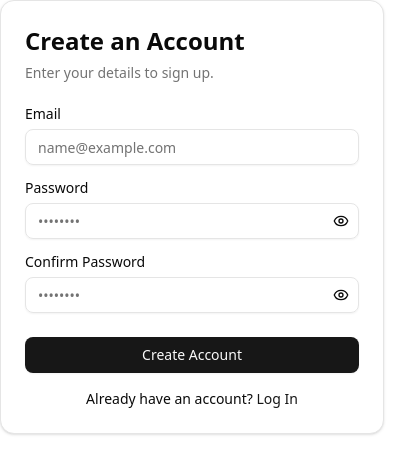
Test: SignUpPage › Password Visibility Toggle › toggles password visibility when show/hide button is clicked
# Click to show password
Click the button named "Show password" at (341, 221), box [323, 203, 359, 239]
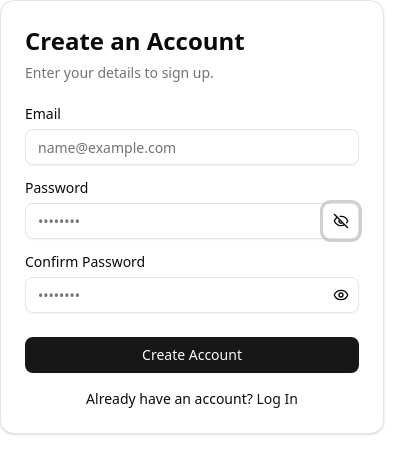
Expected: the button named "Hide password" is shown
# Click to hide password again
Click the button named "Hide password" at (341, 221), box [323, 203, 359, 239]
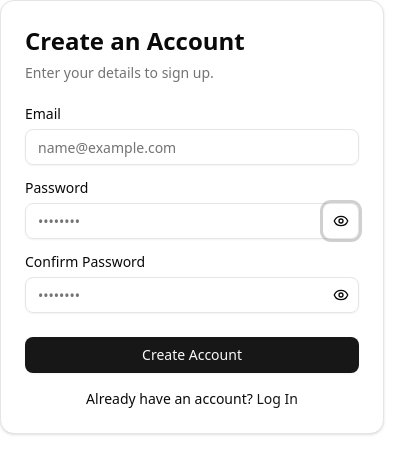
Expected: the button named "Show password" is shown, [323, 203, 359, 239]
